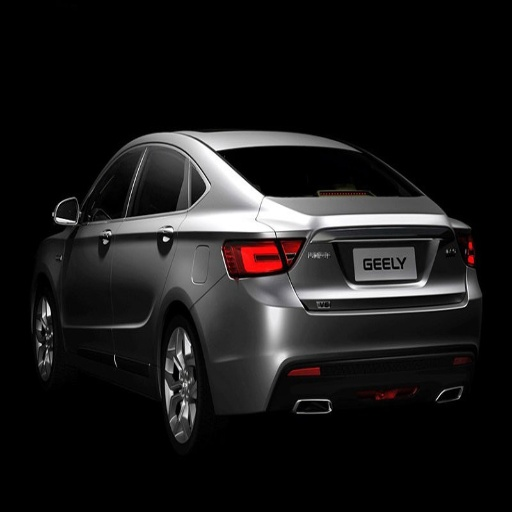back_bumper: (195, 266, 509, 423)
back_glass: (218, 147, 421, 196)
back_left_door: (111, 139, 189, 362)
tailgate: (278, 197, 450, 308)
